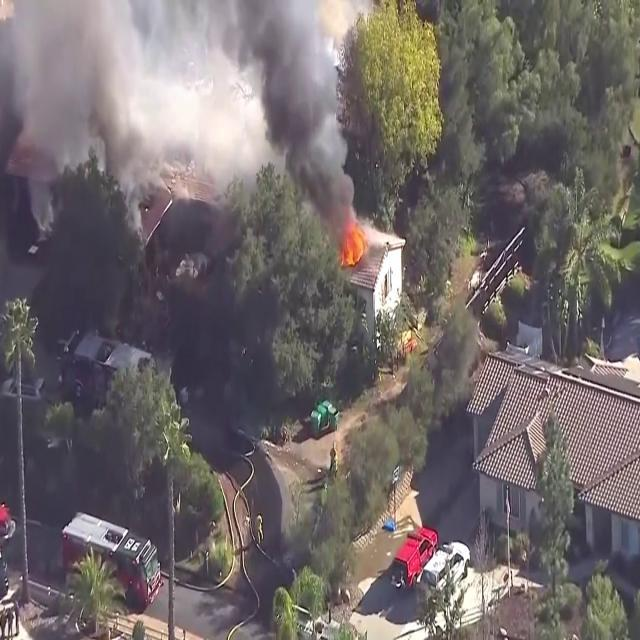Fire: (341, 216, 369, 268)
Smoke: (0, 0, 362, 230)
